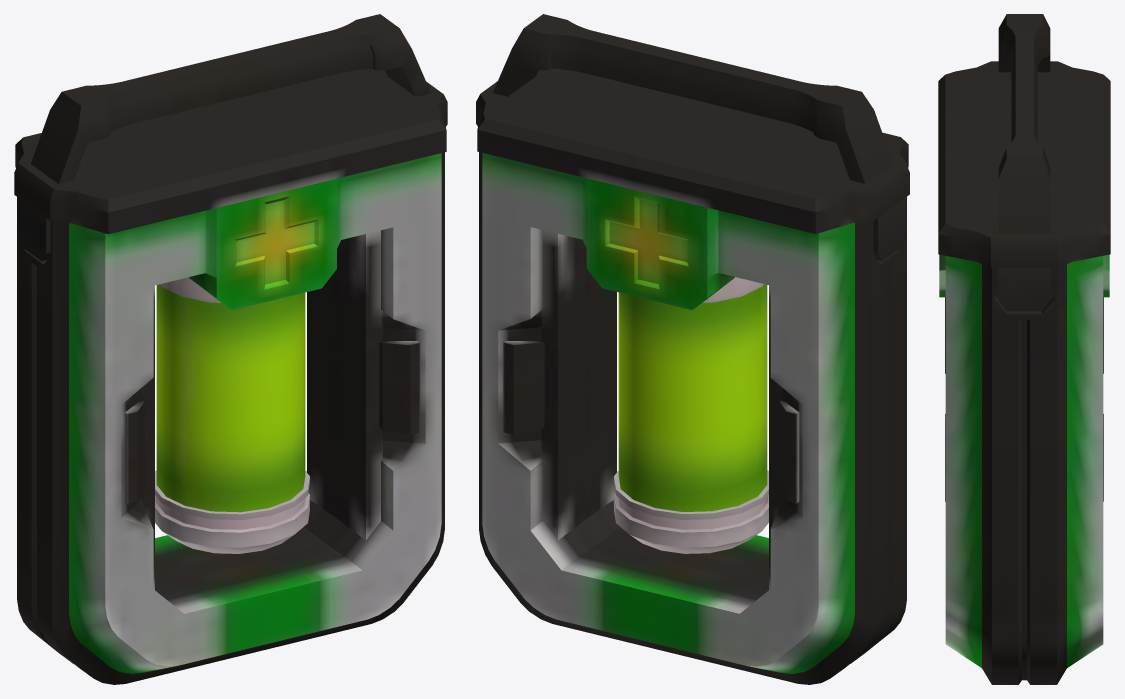
Rendered from HealthPack.glb.
3 views of the same model, side by side, from view 1: azimuth 30°, elevation 25°; view 2: azimuth 150°, elevation 25°; view 3: azimuth 270°, elevation 25° (orthographic). The views are drawn at different scales.
Parts seen in each view (by area): view 1: Prop_HealthPack; view 2: Prop_HealthPack; view 3: Prop_HealthPack.
Boxes of the visible parts, x1,y1,x2,y2 form: Prop_HealthPack: (14,14,447,684); Prop_HealthPack: (476,14,909,684); Prop_HealthPack: (938,14,1110,684).
Bounding box in the file's own units: 0.4307 × 0.6013 × 0.1745.
1 material, 1 textured.
